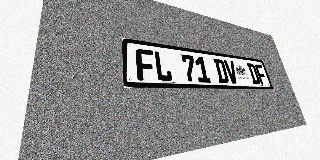1: (193, 56, 211, 83)
7: (180, 54, 198, 82)
D: (213, 59, 229, 83), (247, 63, 261, 84)
F: (135, 48, 156, 81), (254, 64, 268, 85)
L: (153, 51, 173, 82)
V: (224, 60, 239, 84)
